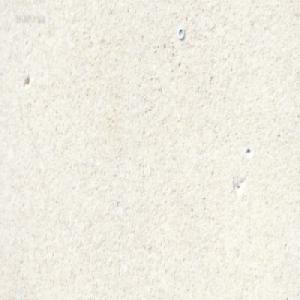Washer: (177, 26, 185, 40)
